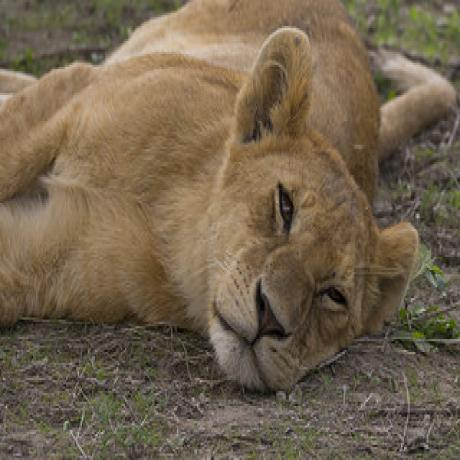Lion: (0, 0, 428, 388)
